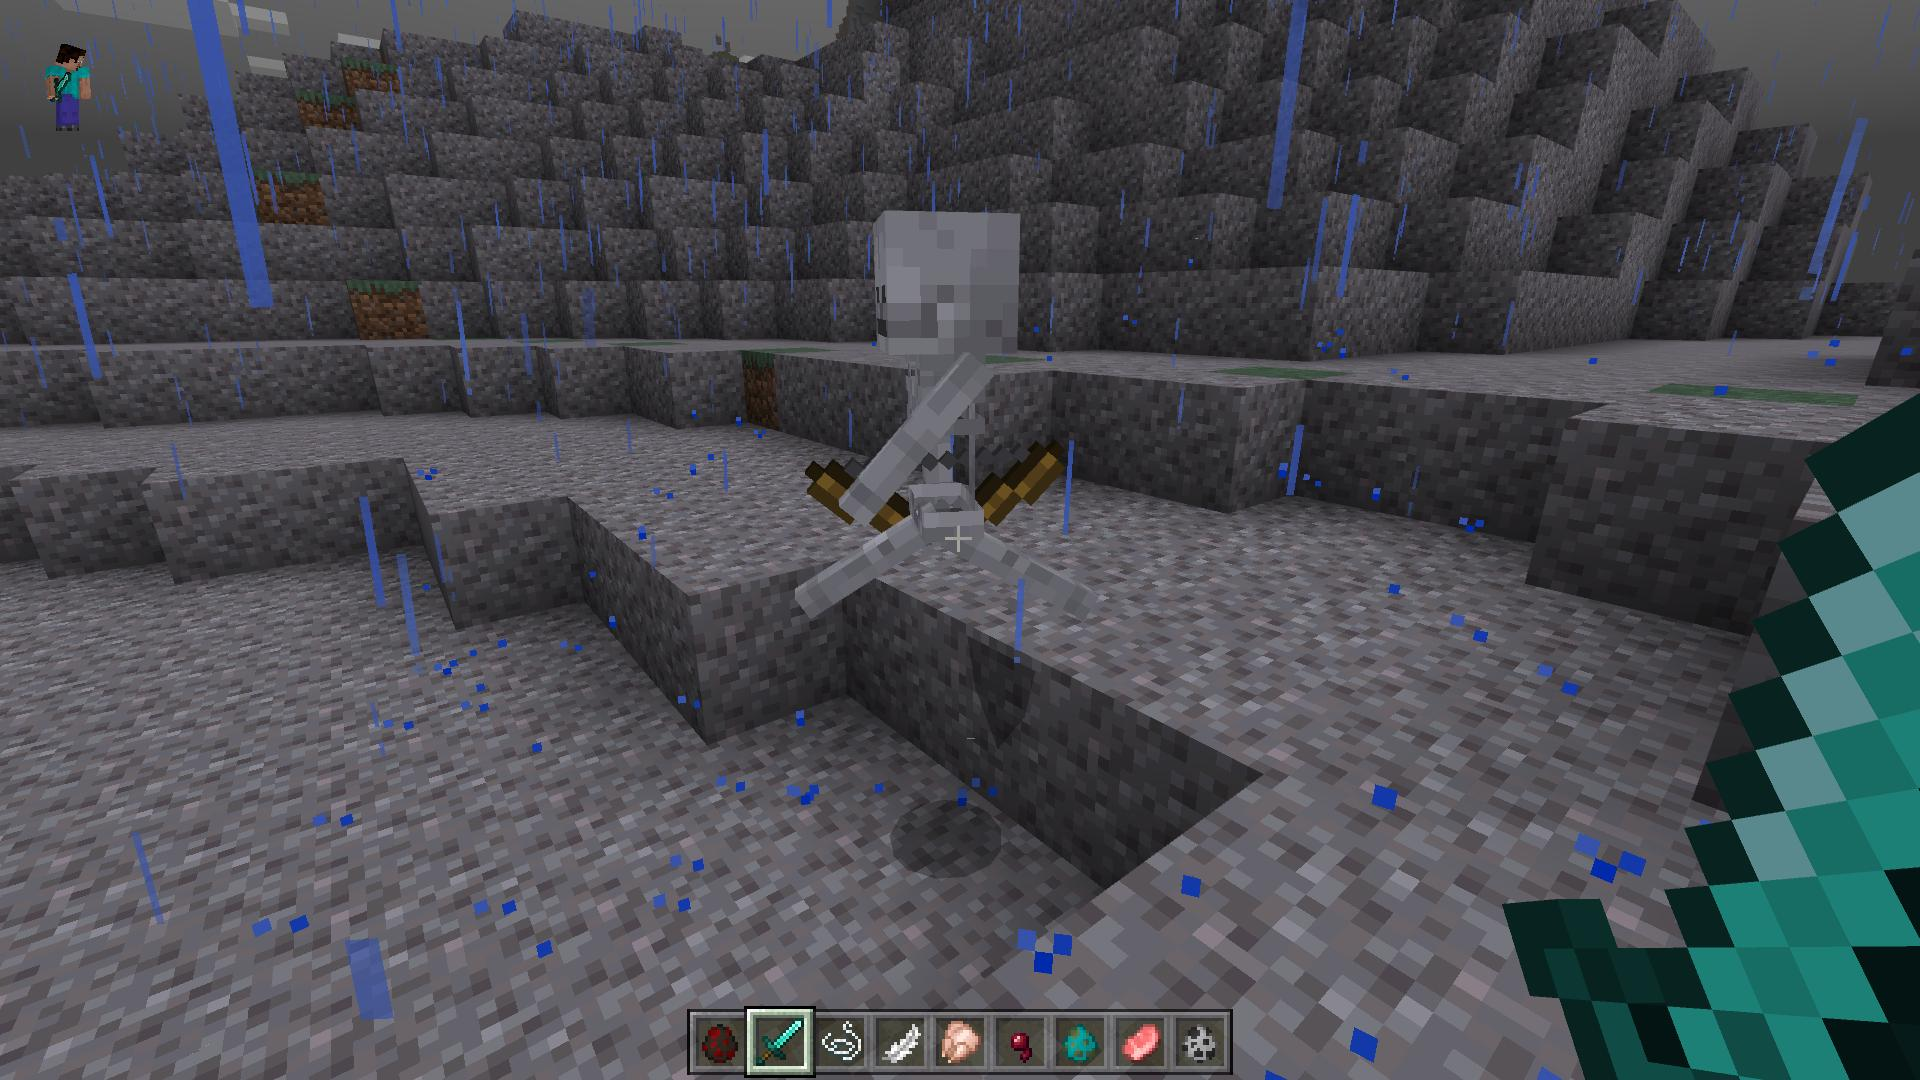skeleton: (803, 210, 1101, 625)
